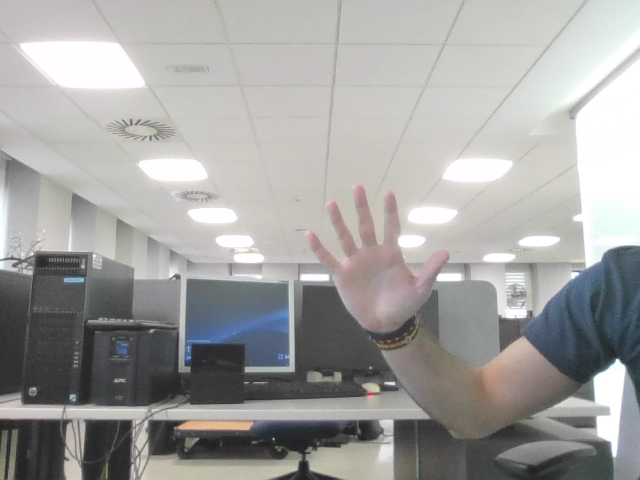Mano Abierta: (317, 196, 435, 304)
